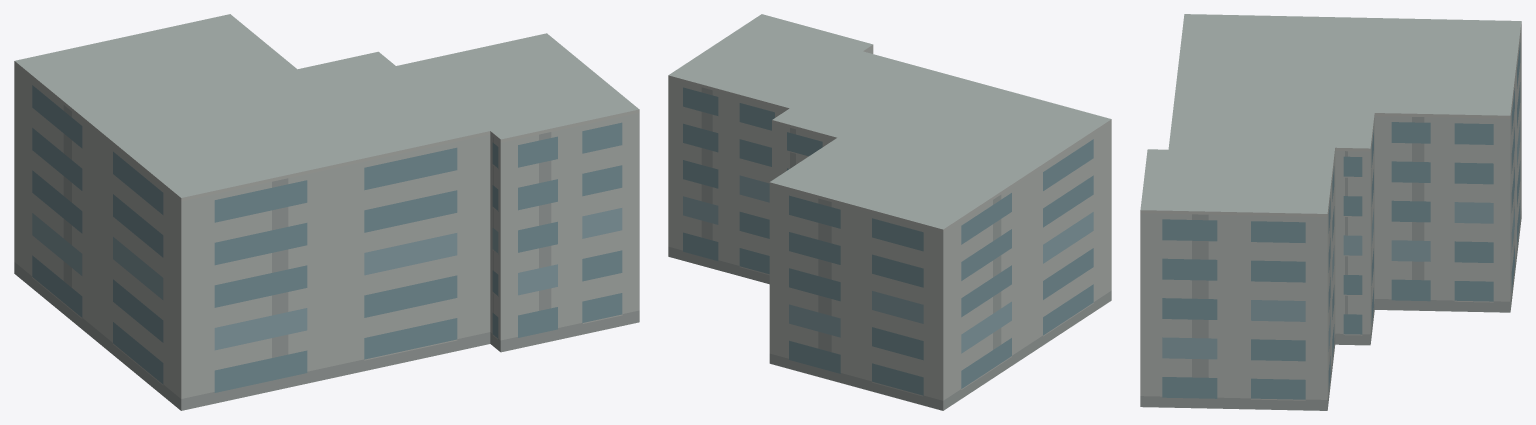
Rendered from residential-59b08aee-2410-4727-893e-892820b8568a.glb.
3 views of the same model, side by side, from view 1: azimuth 30°, elevation 25°; view 2: azimuth 150°, elevation 25°; view 3: azimuth 270°, elevation 25° (orthographic). The views are drawn at different scales.
Visible parts, largest first — view 1: residential-59b08aee-2410-4727-893e-892820b8568a.tmp; view 2: residential-59b08aee-2410-4727-893e-892820b8568a.tmp; view 3: residential-59b08aee-2410-4727-893e-892820b8568a.tmp.
Part boxes in pixels (left/top/right/bottom): residential-59b08aee-2410-4727-893e-892820b8568a.tmp: left=14, top=14, right=639, bottom=410; residential-59b08aee-2410-4727-893e-892820b8568a.tmp: left=668, top=14, right=1111, bottom=410; residential-59b08aee-2410-4727-893e-892820b8568a.tmp: left=1140, top=14, right=1521, bottom=410.
Size of the model in its own units: 33.23 by 15.25 by 26.76.
